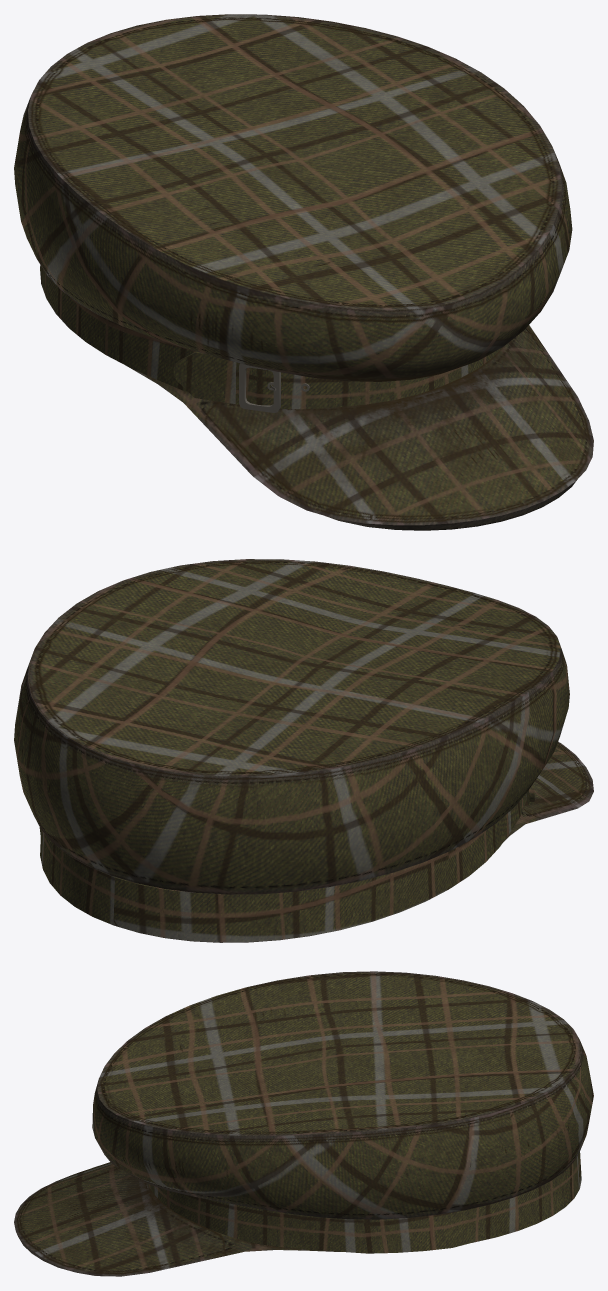
Rendered from sapkadeneme3.5_m_k.fbx.
3 renders of one model, top to bottom at view 1: azimuth 30°, elevation 25°; view 2: azimuth 150°, elevation 25°; view 3: azimuth 270°, elevation 25°, orthographic. The views are drawn at different scales.
Parts seen in each view (by area): view 1: Circle; view 2: Circle; view 3: Circle.
Part boxes in pixels (x1=…): Circle: x1=14, y1=14, x2=593, y2=530; Circle: x1=14, y1=559, x2=593, y2=942; Circle: x1=14, y1=971, x2=593, y2=1276.
Size of the model in its own units: 0.4945 by 0.241 by 0.711.
